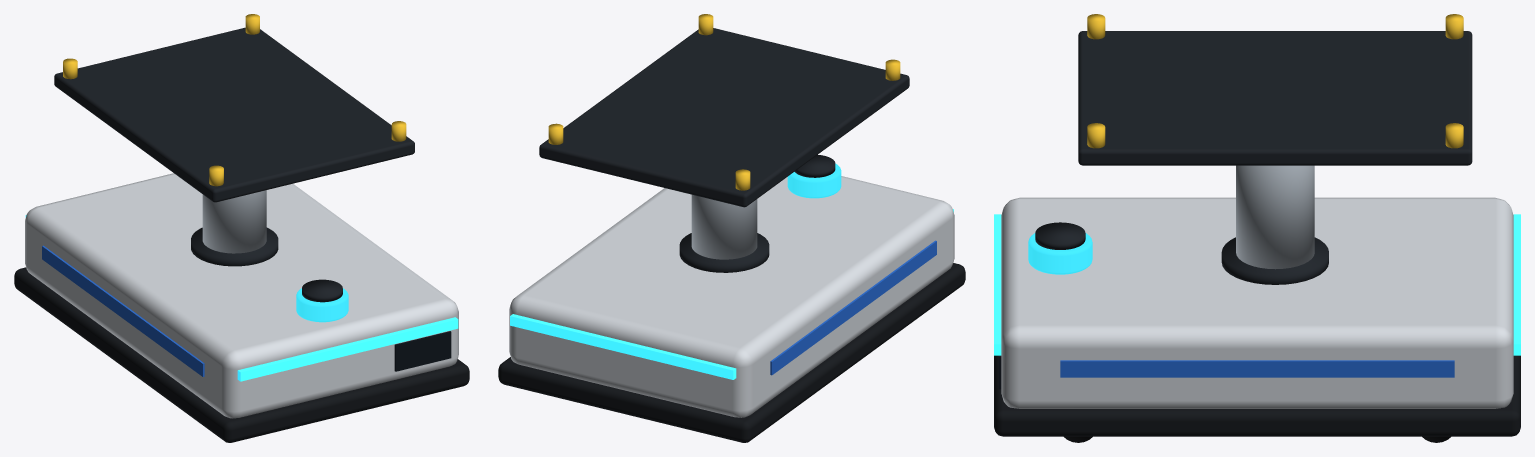
The model's file is amr.glb.
The picture shows the model from 3 angles, left to right: view 1: azimuth 30°, elevation 25°; view 2: azimuth 150°, elevation 25°; view 3: azimuth 270°, elevation 25°; orthographic projection. The views are drawn at different scales.
Parts seen in each view (by area): view 1: Body, Jig, Skirt, Lift, LED_-1, Stripe_-1, Display, Lift_Collar, Lidar, Lidar_Cap; view 2: Body, Jig, Skirt, Lift, LED_1, Stripe_-1, Lift_Collar, Lidar, Lidar_Cap; view 3: Body, Jig, Skirt, Lift, Stripe_1, Lift_Collar, Lidar, Lidar_Cap, LED_1, LED_-1.
Part boxes in pixels (x1=…): Body: x1=25, y1=173, x2=458, y2=418; Jig: x1=54, y1=27, x2=414, y2=202; Skirt: x1=14, y1=267, x2=469, y2=442; Lift: x1=202, y1=190, x2=266, y2=253; LED_-1: x1=237, y1=317, x2=458, y2=381; Stripe_-1: x1=42, y1=245, x2=204, y2=376; Display: x1=394, y1=331, x2=451, y2=371; Lift_Collar: x1=191, y1=227, x2=278, y2=266; Lidar: x1=296, y1=288, x2=348, y2=322; Lidar_Cap: x1=302, y1=279, x2=342, y2=302; Body: x1=509, y1=176, x2=954, y2=417; Jig: x1=539, y1=28, x2=909, y2=207; Skirt: x1=498, y1=263, x2=965, y2=442; Lift: x1=691, y1=194, x2=757, y2=259; LED_1: x1=510, y1=314, x2=736, y2=379; Stripe_-1: x1=770, y1=240, x2=936, y2=375; Lift_Collar: x1=679, y1=233, x2=769, y2=272; Lidar: x1=787, y1=163, x2=841, y2=198; Lidar_Cap: x1=794, y1=154, x2=835, y2=177; Body: x1=1001, y1=197, x2=1513, y2=408; Jig: x1=1078, y1=31, x2=1472, y2=165; Skirt: x1=994, y1=355, x2=1520, y2=436; Lift: x1=1236, y1=165, x2=1314, y2=269; Stripe_1: x1=1060, y1=360, x2=1454, y2=377; Lift_Collar: x1=1221, y1=237, x2=1328, y2=284; Lidar: x1=1028, y1=233, x2=1092, y2=274; Lidar_Cap: x1=1035, y1=222, x2=1085, y2=249; LED_1: x1=1513, y1=214, x2=1520, y2=355; LED_-1: x1=994, y1=214, x2=1001, y2=355.
Size of the model in its own units: 0.97 by 0.955 by 1.47.
